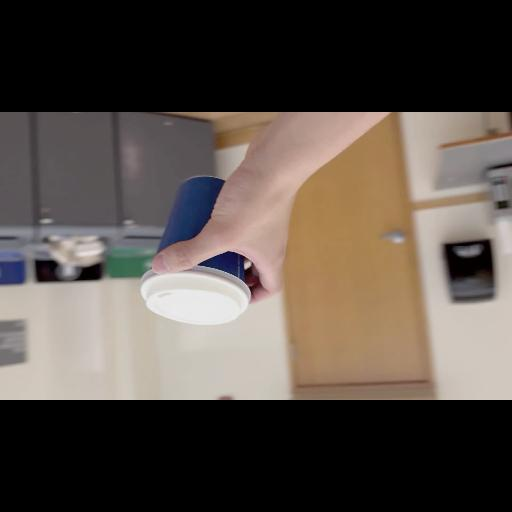lp_paper_cup: (140, 175, 254, 327)
